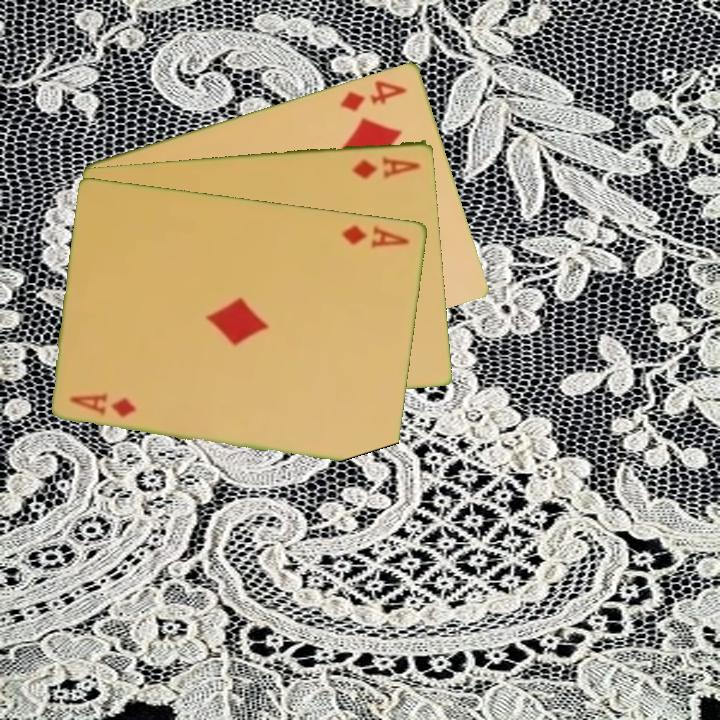4d: (337, 76, 410, 114)
Ad: (339, 221, 413, 251), (66, 390, 139, 420), (349, 152, 424, 181)
